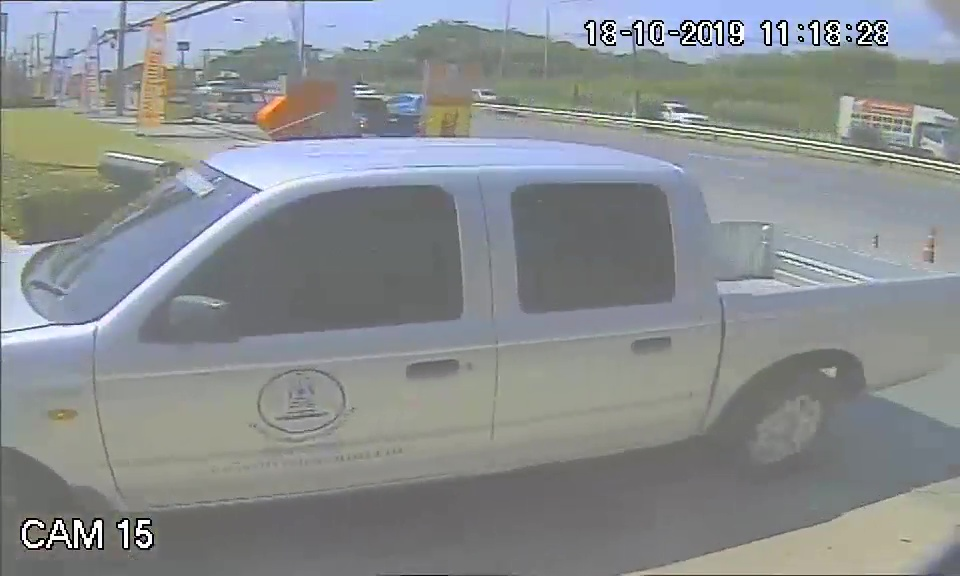pickup: (5, 135, 935, 520)
